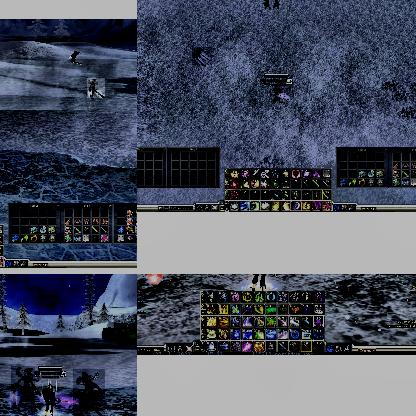caliana: (73, 369, 105, 416), (11, 366, 35, 412), (87, 78, 105, 98), (192, 47, 212, 65)
